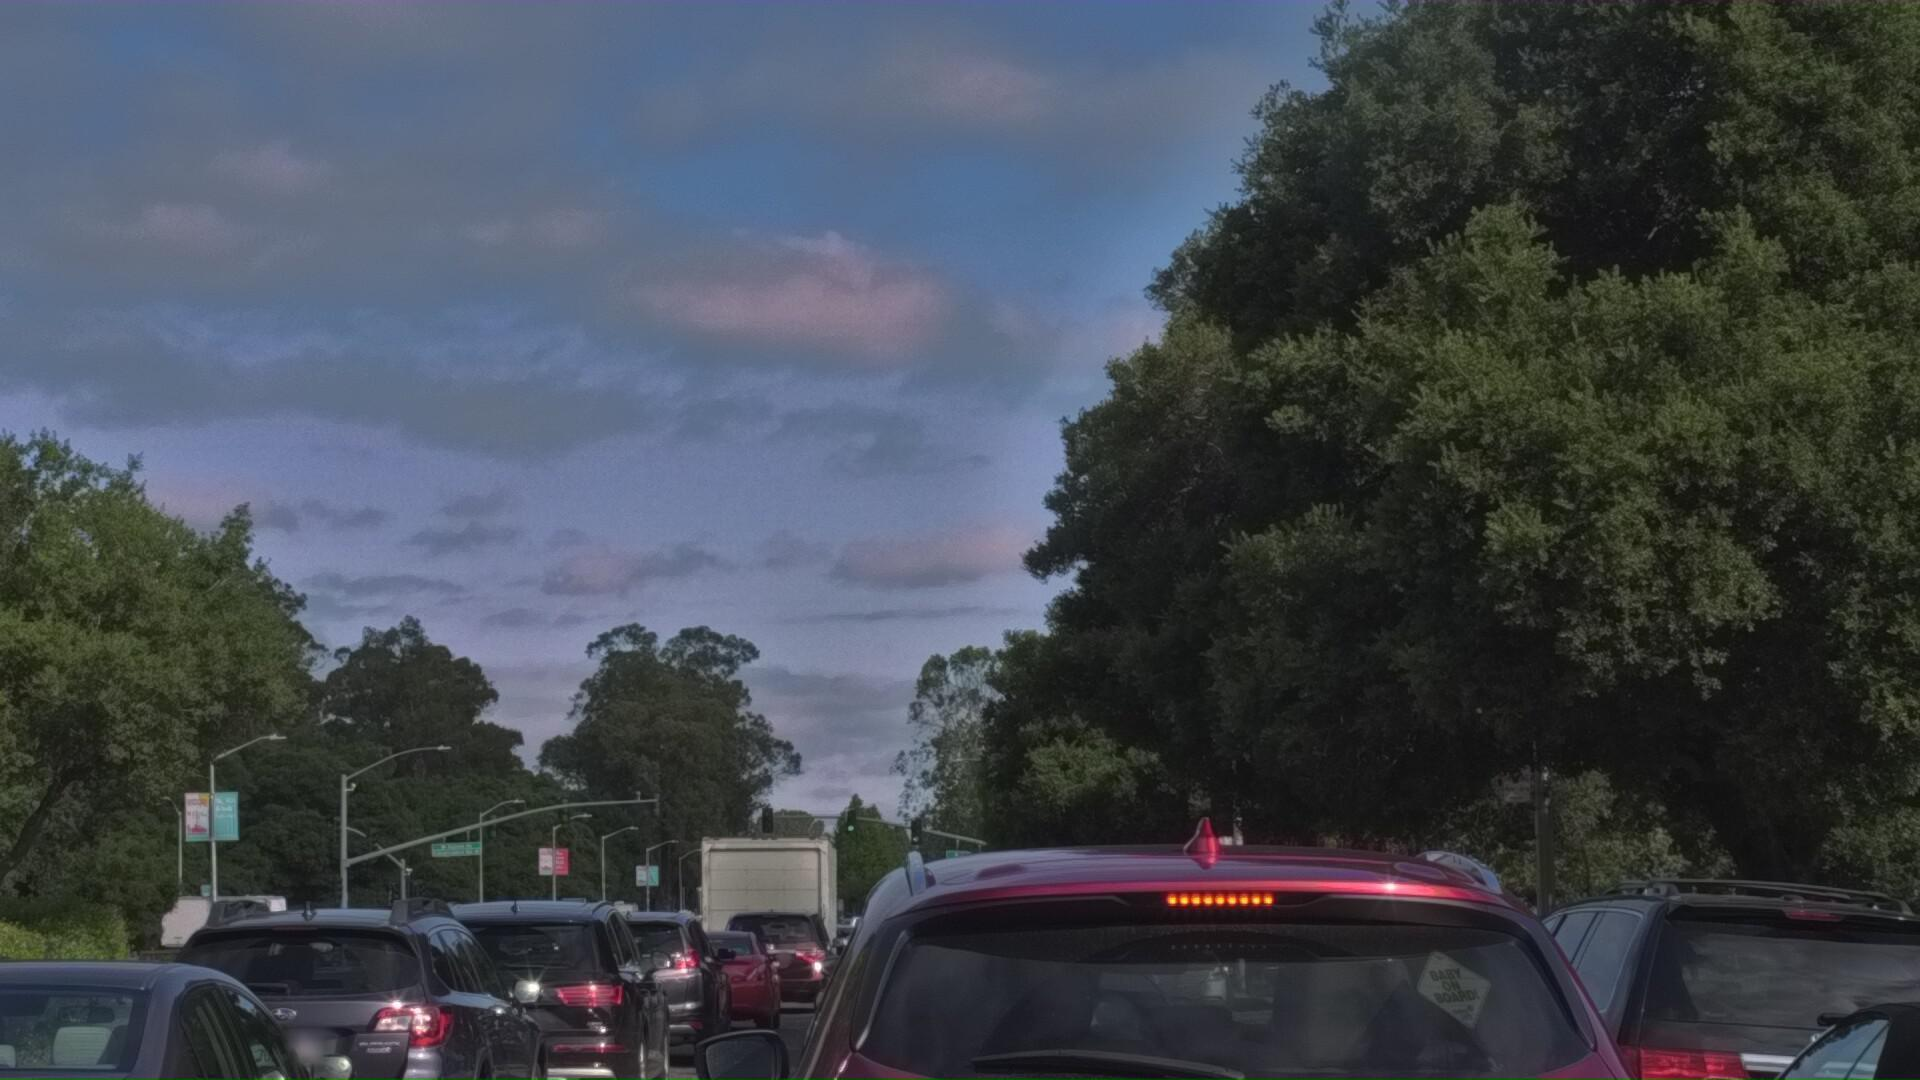car: (571, 775, 1920, 1080), (1396, 901, 1920, 1080), (69, 971, 568, 1080), (1242, 961, 1597, 1080), (0, 986, 404, 1080), (369, 982, 694, 1080), (787, 982, 1068, 1080), (781, 1030, 1317, 1080), (1609, 1013, 1920, 1080), (783, 1029, 1160, 1080), (527, 1009, 752, 1080), (632, 1021, 798, 1080), (705, 1011, 847, 1080)
truck: (688, 932, 847, 1034)
